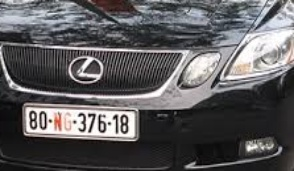plate: (22, 101, 139, 142)
